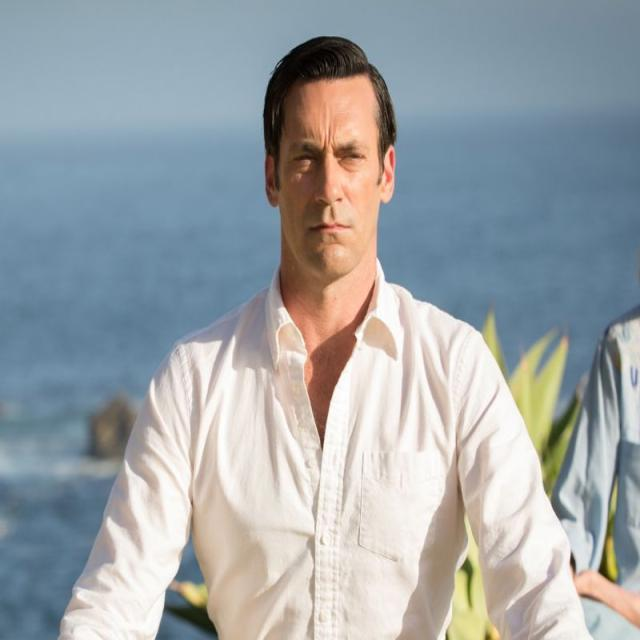human: (58, 39, 597, 640)
